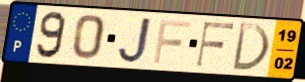0: (70, 13, 107, 62)
9: (35, 10, 68, 60)
D: (230, 21, 272, 73)
F: (194, 21, 237, 69), (151, 18, 192, 66)
J: (116, 16, 154, 65)
